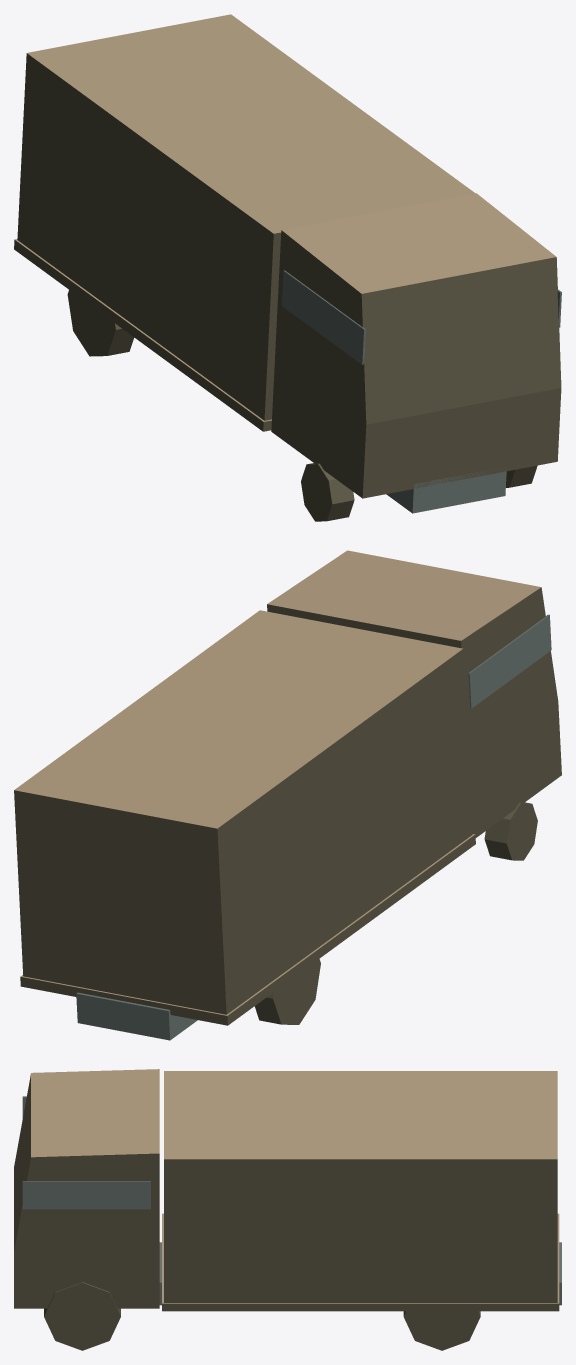
The model's file is SM_CocheCivil_Camion_v2_LOD1.fbx.
3 renders of one model, top to bottom at view 1: azimuth 30°, elevation 25°; view 2: azimuth 150°, elevation 25°; view 3: azimuth 270°, elevation 25°, orthographic. The views are drawn at different scales.
Visible parts, largest first — view 1: SM_coche_civil_v22_LOD1; view 2: SM_coche_civil_v22_LOD1; view 3: SM_coche_civil_v22_LOD1.
Part boxes in pixels (left/top/right/bottom): SM_coche_civil_v22_LOD1: left=14, top=14, right=561, bottom=521; SM_coche_civil_v22_LOD1: left=14, top=550, right=561, bottom=1040; SM_coche_civil_v22_LOD1: left=14, top=1069, right=561, bottom=1350.
Bounding box in the file's own units: 2.32 × 2.71 × 6.4.
